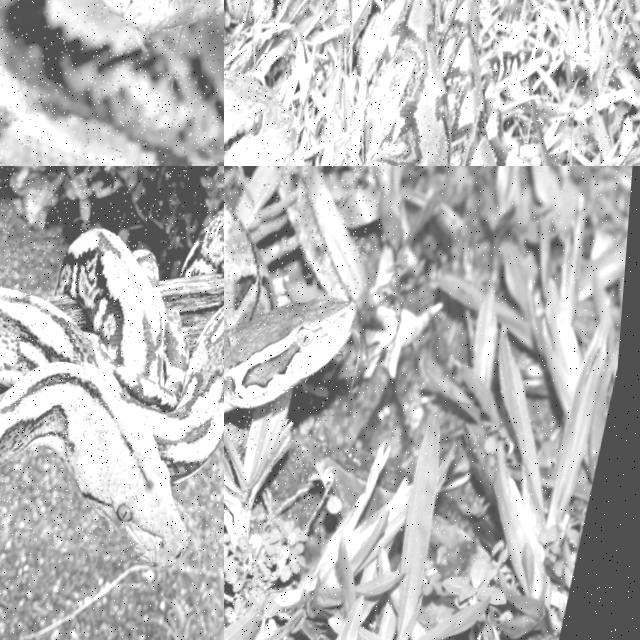Calloselasma rhodostoma: (224, 166, 355, 412)
Malayopython reticulatus: (0, 229, 223, 565), (0, 0, 223, 165), (326, 0, 530, 165)
